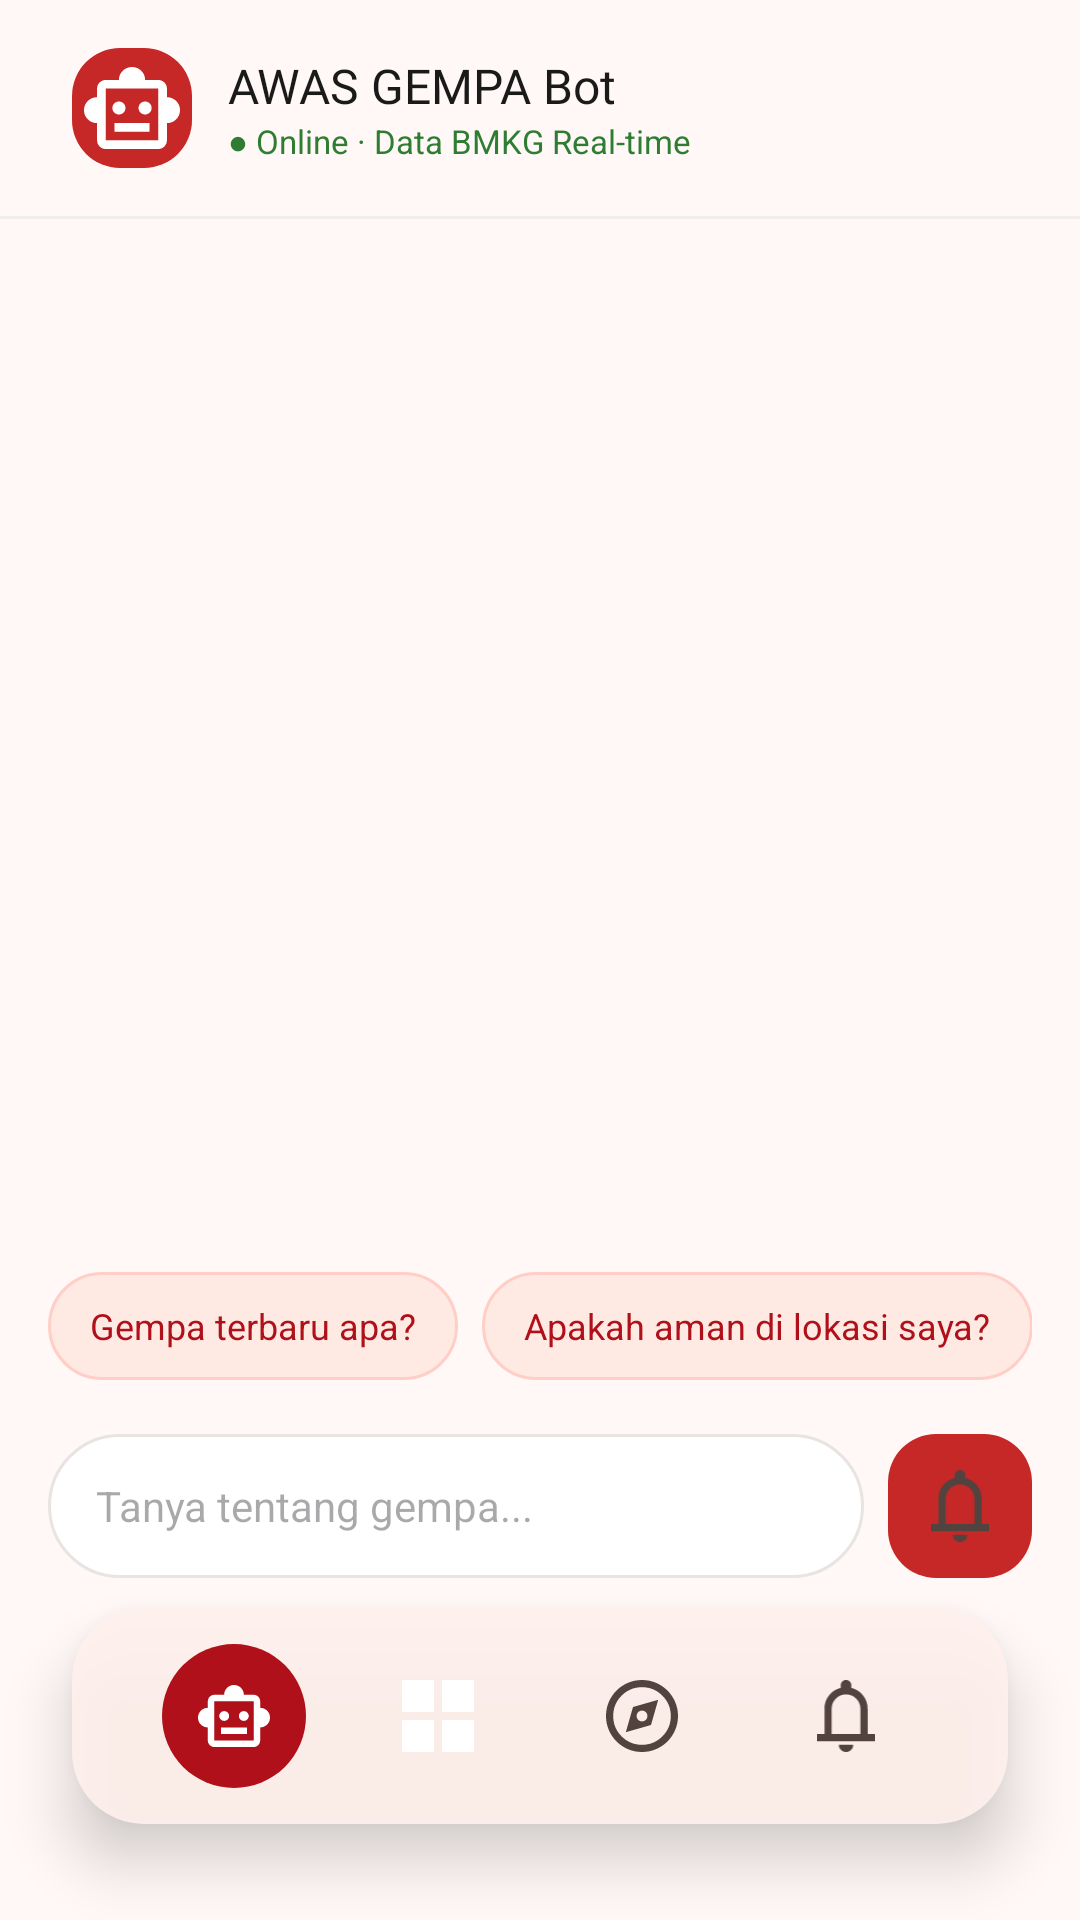

Screen size 1080 x 1920. Icon name, then its center in pixels as [x,y]:
explore: [642,1716]
notifications: [960,1506], [846,1716]
robot: [132,108], [234,1716]
